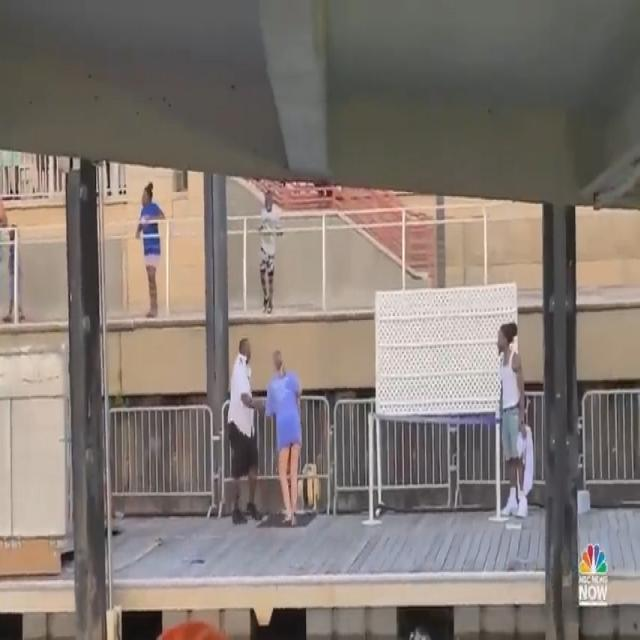non-fight: (213, 320, 312, 533), (479, 317, 542, 528)
